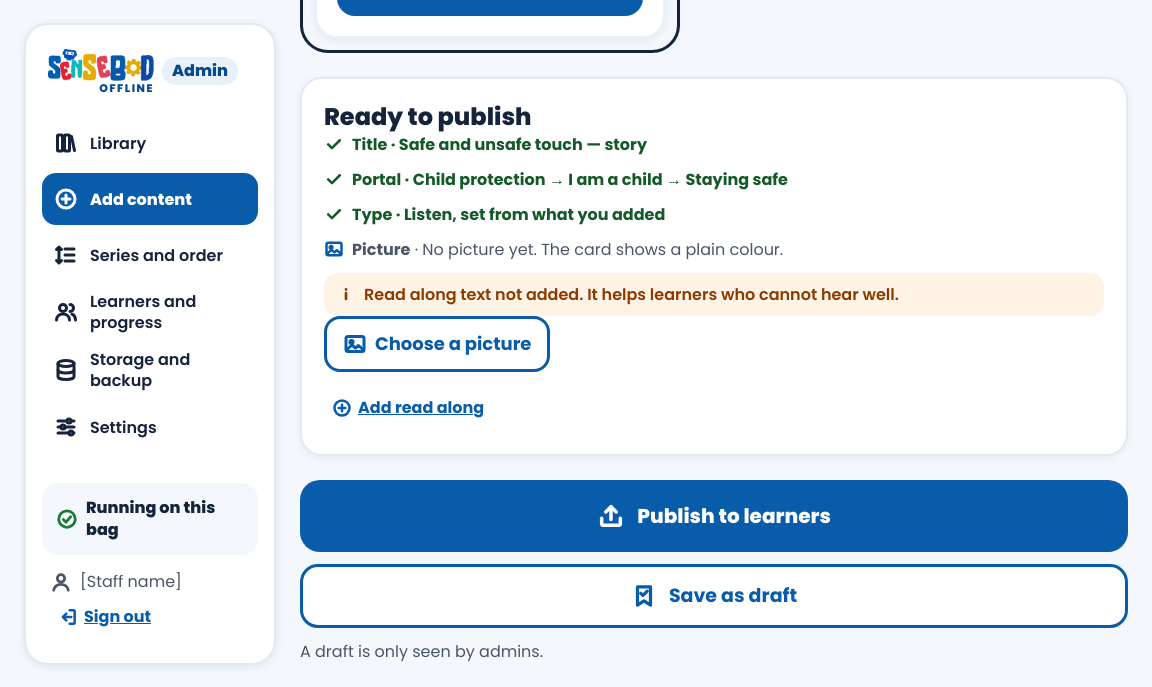
Test case: check and publish › keeps the lesson a draft and says so when publishing fails
(page scrolled)
Click the button "Publish to learners" at (714, 516), box [300,480,1128,552]
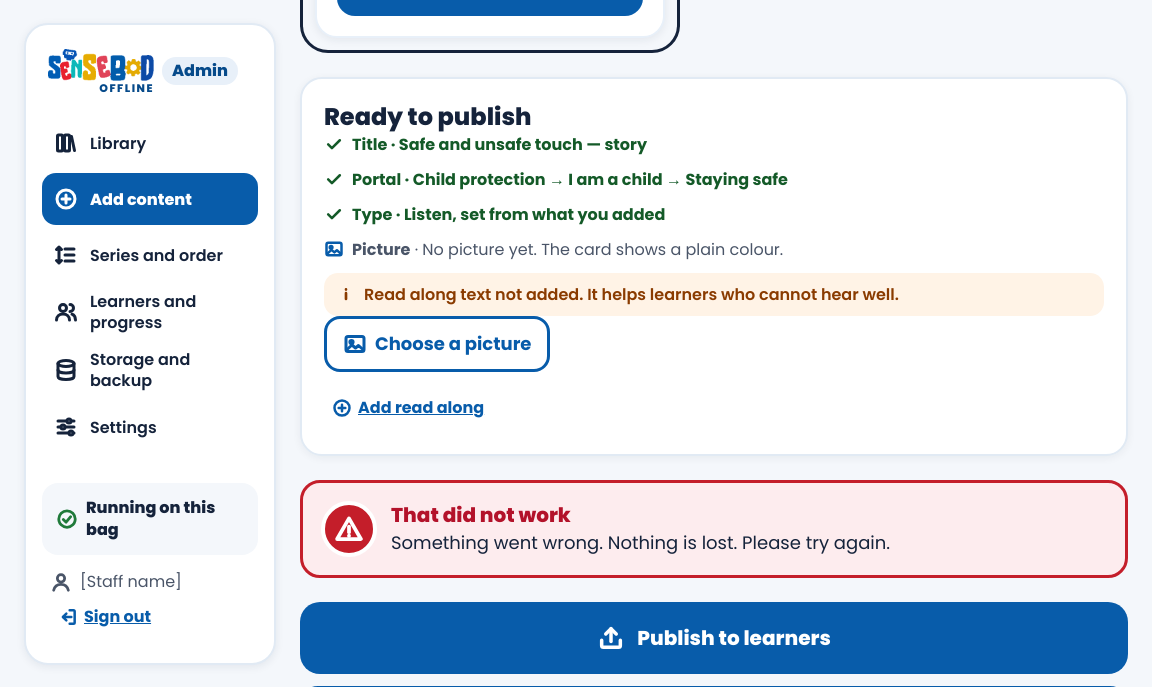
Result: the text "That did not work" is shown at [391,501,571,529]
Click the button "Publish to learners" at (714, 638), box [300,602,1128,674]
(page scrolled)
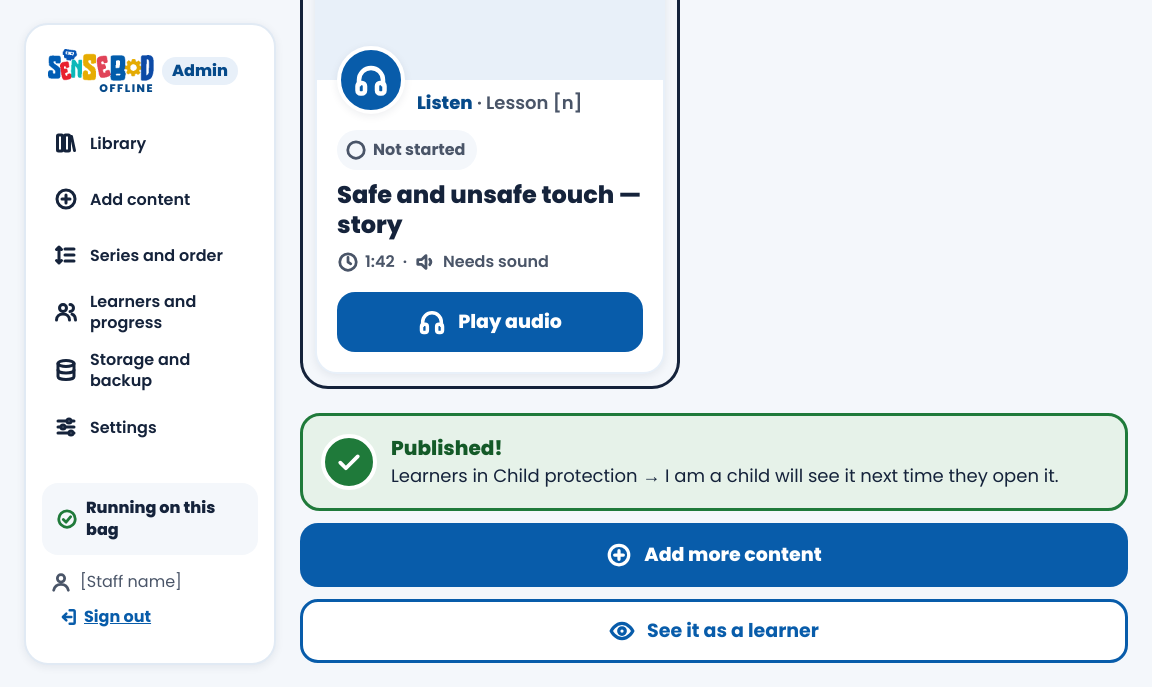
Result: the text "Published!" is shown at [391,434,503,462]
